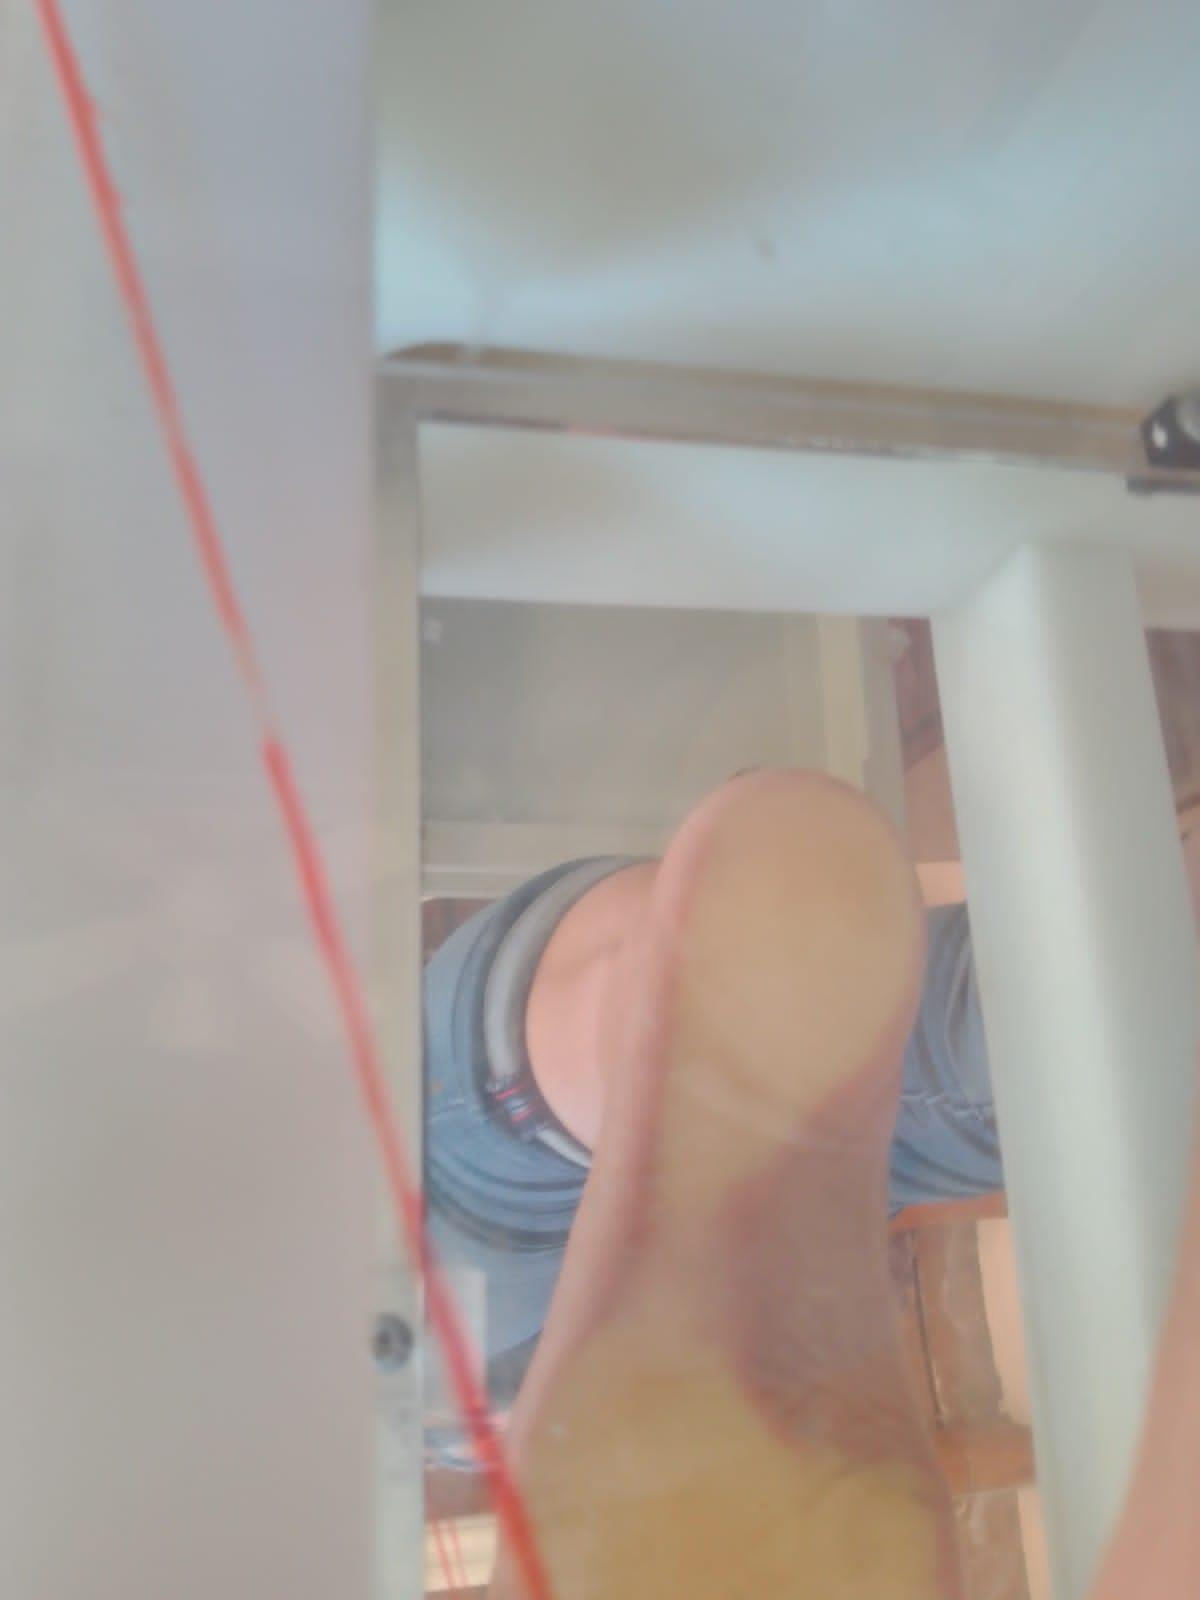Present: (500, 736, 1018, 1600)
